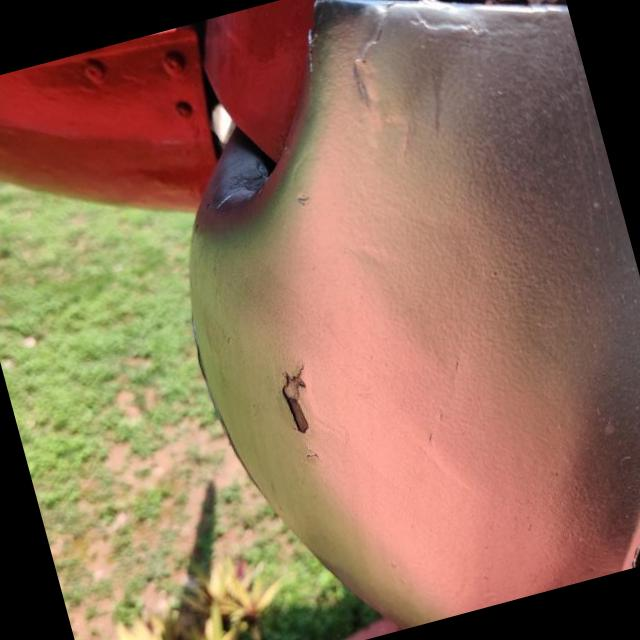Paint-off: (281, 366, 308, 433)
